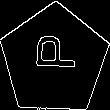P_W: (29, 41, 80, 80)
